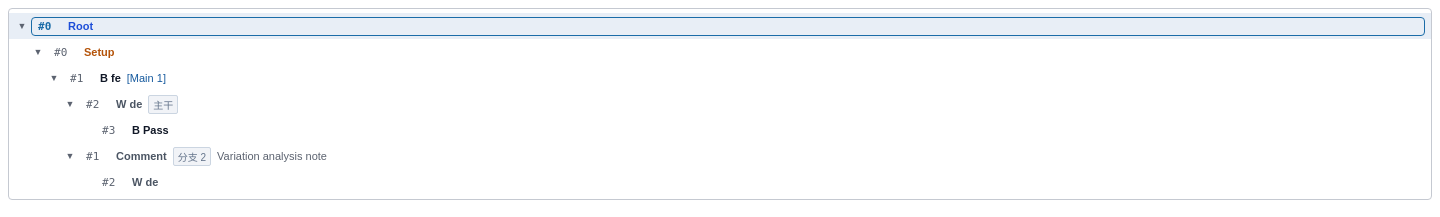
ReviewTree › folds and unfolds branches via toggle button, hiding descendants and preventing their selection
The width and height of the screenshot is (1440, 217).
Click to fold [0, 0]
Click the 3rd button with class "review-tree-toggle-btn": coordinates (54, 78) [45,69,63,87]
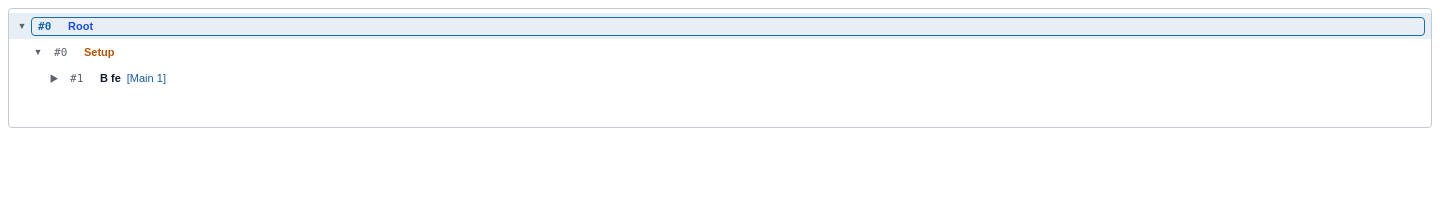
Now the number of list items with class "review-tree-row" is 3, box [9,13,1431,39]; [9,39,1431,65]; [9,65,1431,91]
Now the button with class "review-tree-toggle-btn" reads "▶"
Unfold again
Click the button with class "review-tree-toggle-btn" showing "▶": coordinates (54, 78) [45,69,63,87]
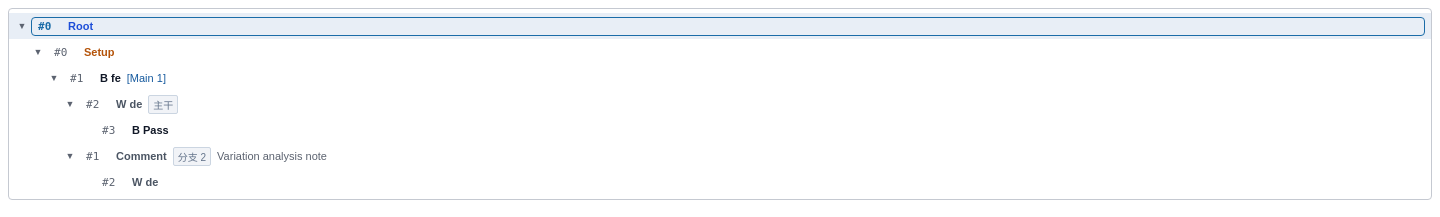
Now the number of list items with class "review-tree-row" is 7
